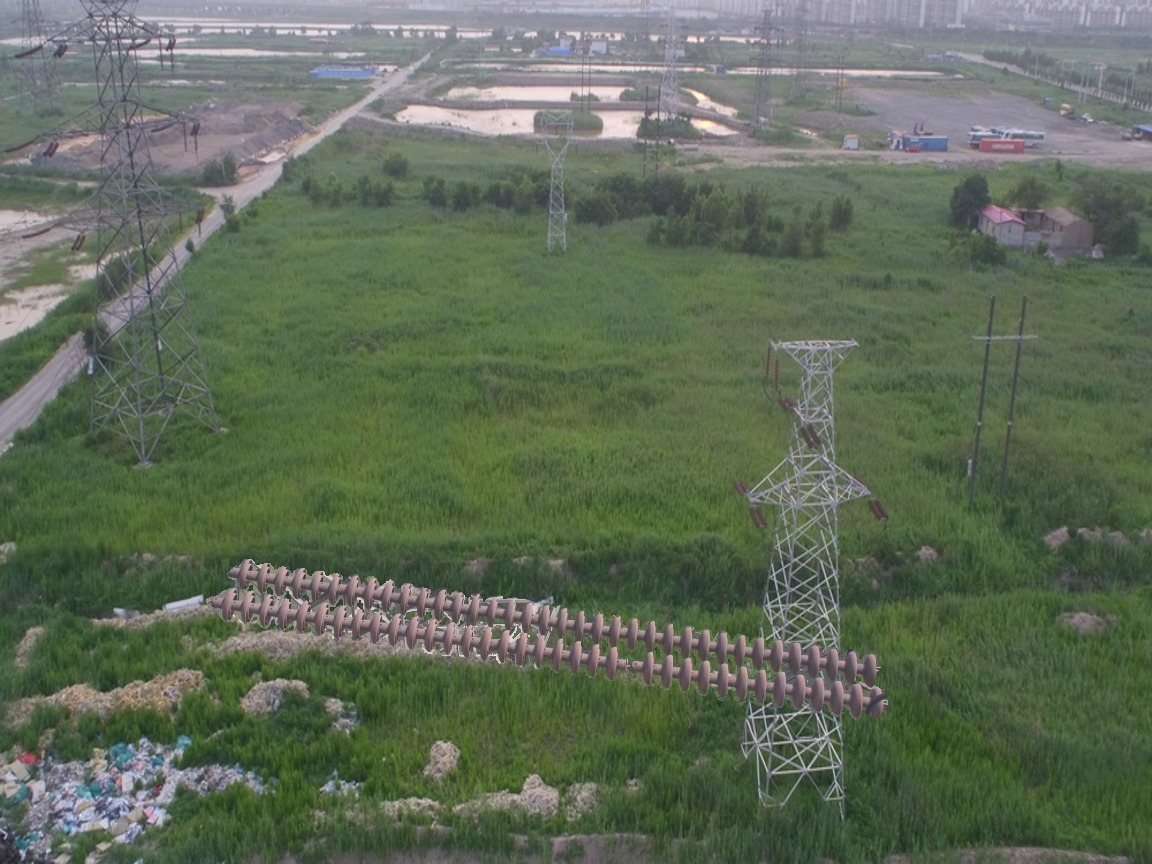defect: (601, 646, 660, 687)
